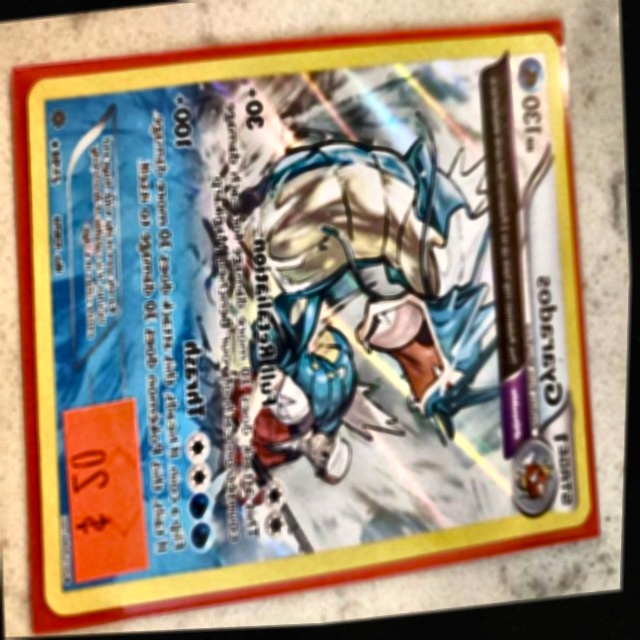card: (25, 36, 593, 619)
